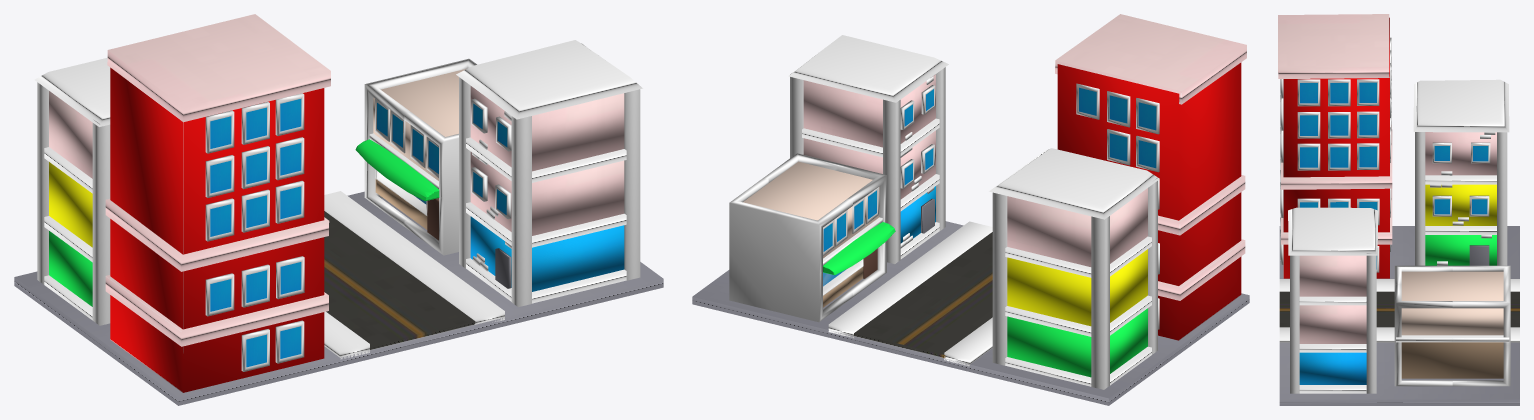
The model's file is Project.obj.
3 views of the same model, side by side, from view 1: azimuth 30°, elevation 25°; view 2: azimuth 150°, elevation 25°; view 3: azimuth 270°, elevation 25° (orthographic). The views are drawn at different scales.
Visible parts, largest first — view 1: Bui_1, Frame, Bui3, Crossroad, Frame_1, Win_9, Road, Window_9, Main3, Bui1_(main1), Floor, Main2 (+7 smaller); view 2: Frame, Bui_1, Frame_1, Bui3, Crossroad, Road, Main_1, Bui4_(main1), Main, Main3, Sc_floor, Floor (+8 smaller); view 3: Frame, Frame_1, Bui3, Crossroad, Bui_1, Sc_floor, Window_9, Win_9, Bui, Main3, Bui1_(main1), Main_1 (+8 smaller).
Boxes of the visible parts, x1,y1,x2,y2 form: Bui_1: [110, 67, 324, 392]; Frame: [364, 40, 642, 307]; Bui3: [105, 14, 330, 346]; Crossroad: [14, 191, 663, 405]; Frame_1: [34, 57, 110, 325]; Win_9: [210, 99, 507, 367]; Road: [324, 211, 475, 350]; Window_9: [205, 93, 511, 371]; Main3: [470, 86, 624, 171]; Bui1_(main1): [470, 152, 624, 235]; Floor: [324, 191, 504, 324]; Main2: [470, 216, 624, 291]; Frame: [729, 35, 948, 322]; Bui_1: [1057, 62, 1241, 340]; Frame_1: [989, 148, 1159, 389]; Bui3: [1055, 14, 1246, 300]; Crossroad: [692, 221, 1249, 405]; Road: [854, 232, 992, 358]; Main_1: [1007, 188, 1147, 266]; Bui4_(main1): [1007, 249, 1147, 326]; Main: [1007, 308, 1147, 377]; Main3: [803, 74, 935, 147]; Sc_floor: [743, 161, 879, 258]; Floor: [828, 221, 992, 338]; Frame: [1288, 207, 1510, 393]; Frame_1: [1413, 79, 1509, 265]; Bui3: [1278, 14, 1392, 244]; Crossroad: [1279, 226, 1519, 405]; Bui_1: [1283, 17, 1389, 278]; Sc_floor: [1401, 271, 1503, 335]; Window_9: [1280, 50, 1490, 272]; Win_9: [1300, 82, 1488, 269]; Bui: [1401, 342, 1503, 378]; Main3: [1299, 255, 1366, 296]; Bui1_(main1): [1299, 305, 1366, 343]; Main_1: [1425, 132, 1496, 175].
Size of the model in its own units: 16.83 by 9.95 by 9.92.
29 materials, 21 textured.
